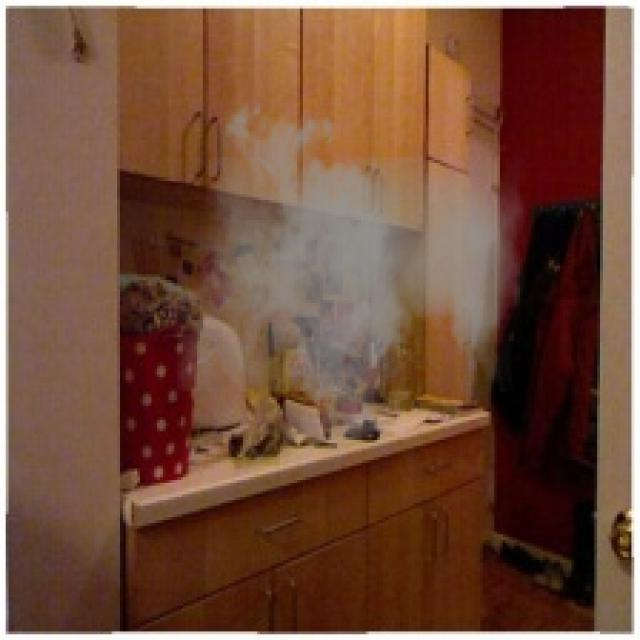smoke: (177, 92, 526, 457)
